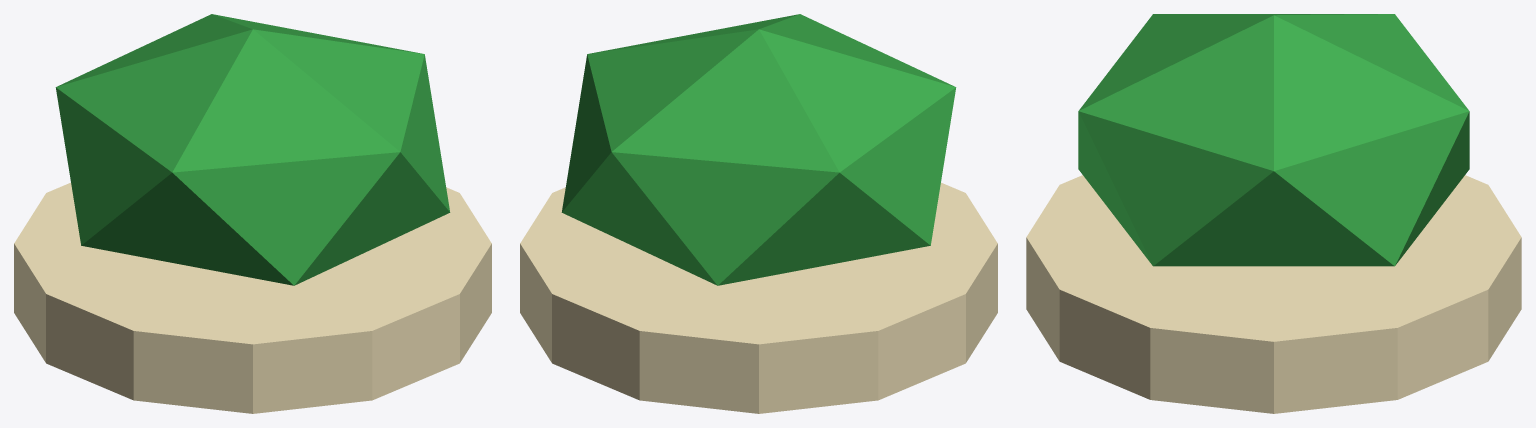
The model's file is shell.glb.
The picture shows the model from 3 angles, left to right: view 1: azimuth 30°, elevation 25°; view 2: azimuth 150°, elevation 25°; view 3: azimuth 270°, elevation 25°; orthographic projection. The views are drawn at different scales.
Visible parts, largest first — view 1: shell_dome, shell_rim; view 2: shell_dome, shell_rim; view 3: shell_dome, shell_rim.
Part boxes in pixels (x1,y1,x2,y2): shell_dome: (55,14,450,285); shell_rim: (14,182,491,413); shell_dome: (561,14,956,285); shell_rim: (520,182,997,413); shell_dome: (1078,14,1469,266); shell_rim: (1026,175,1521,413).
Bounding box in the file's own units: 0.56 × 0.367 × 0.56.
